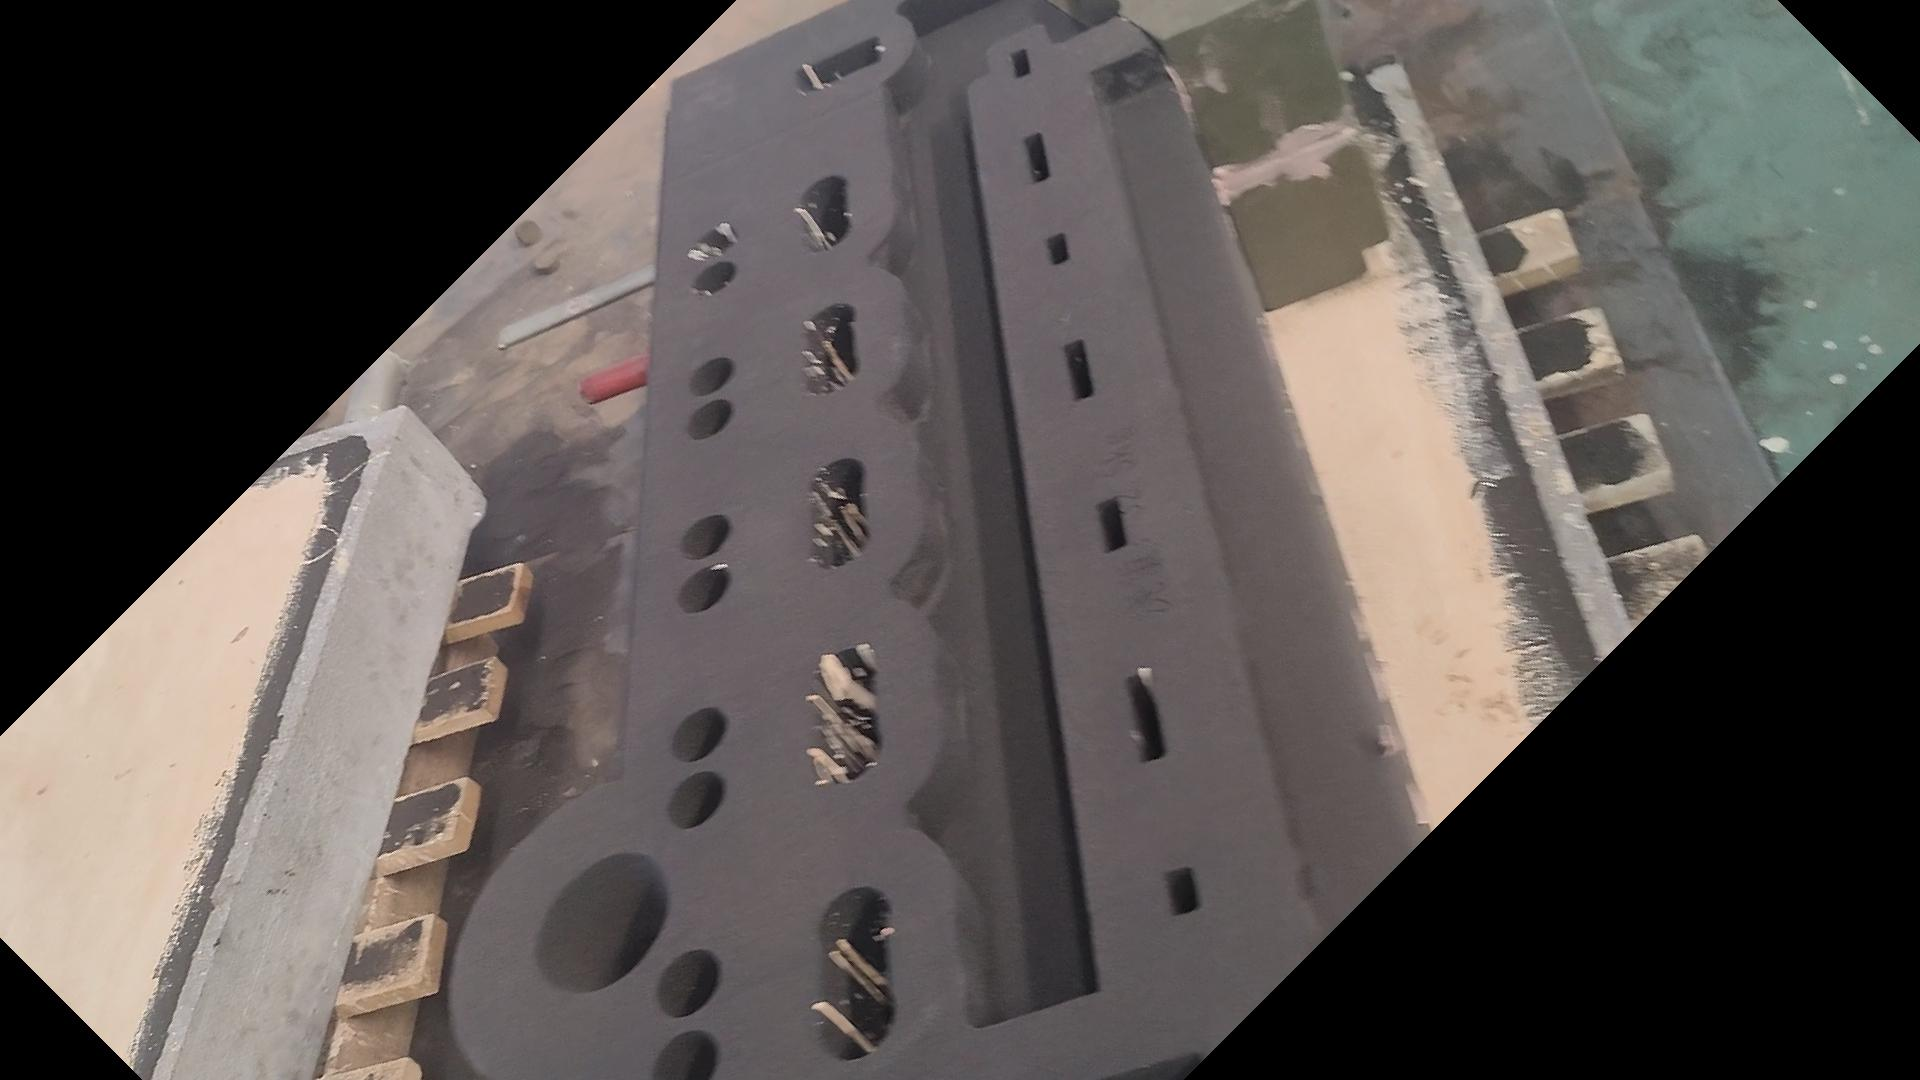pouring hole: (535, 852, 669, 994)
